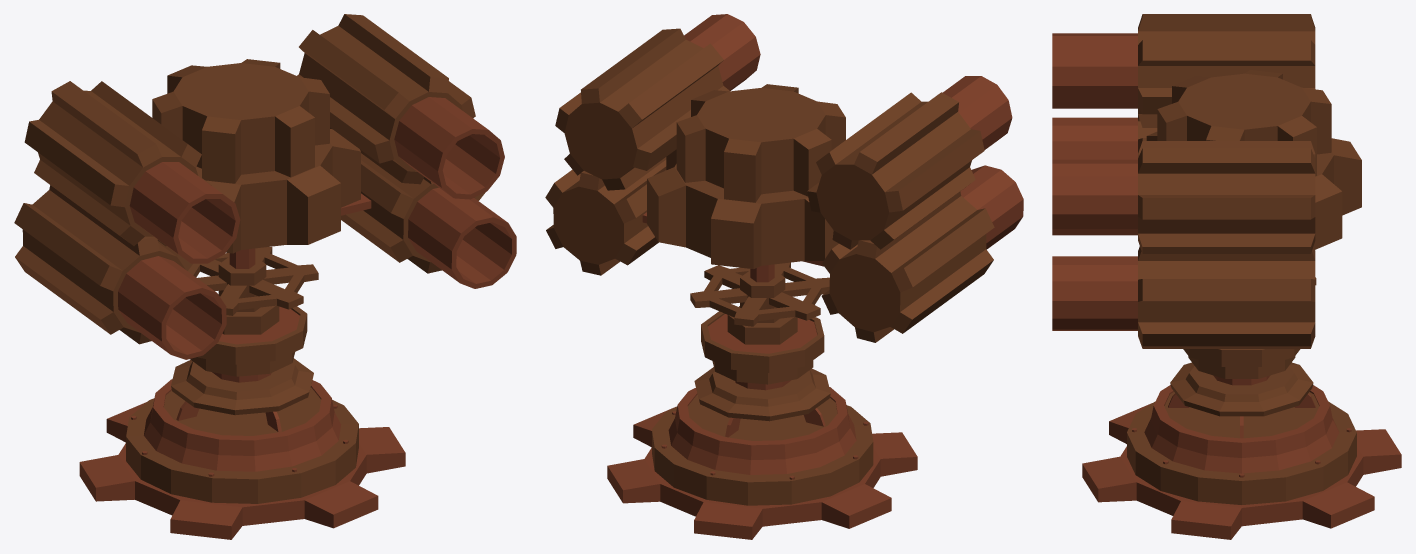
The model's file is GearCannon_2.glb.
The picture shows the model from 3 angles, left to right: view 1: azimuth 30°, elevation 25°; view 2: azimuth 150°, elevation 25°; view 3: azimuth 270°, elevation 25°; orthographic projection. The views are drawn at different scales.
Parts seen in each view (by area): view 1: GearCannon_2_Gun, GearCannon_2_Base, GearCannon_2_Mid; view 2: GearCannon_2_Gun, GearCannon_2_Base, GearCannon_2_Mid; view 3: GearCannon_2_Gun, GearCannon_2_Base, GearCannon_2_Mid.
Boxes of the visible parts, box(x1,y1,x2,y2) form: GearCannon_2_Gun: box(14, 14, 516, 359); GearCannon_2_Base: box(79, 358, 405, 539); GearCannon_2_Mid: box(188, 247, 318, 382); GearCannon_2_Gun: box(545, 14, 1023, 342); GearCannon_2_Base: box(607, 367, 917, 539); GearCannon_2_Mid: box(690, 262, 829, 390); GearCannon_2_Gun: box(1052, 14, 1361, 348); GearCannon_2_Base: box(1082, 362, 1401, 539); GearCannon_2_Mid: box(1183, 277, 1316, 385).
Size of the model in its own units: 1.88 by 1.87 by 1.5.
